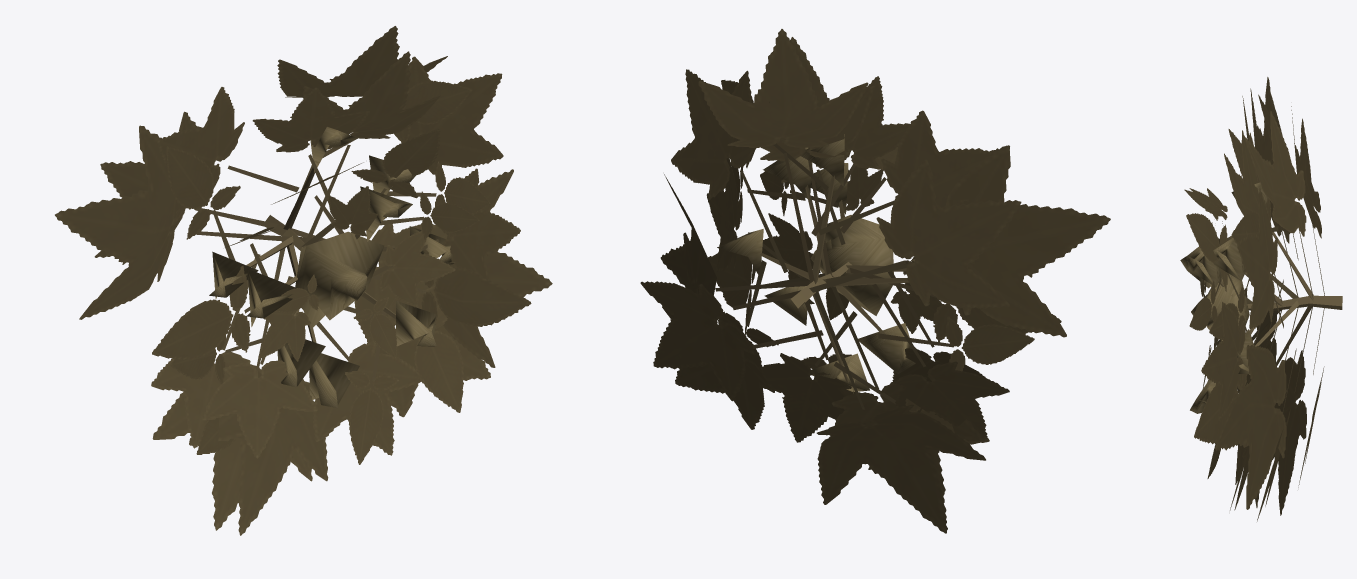
Rendered from p_afghan_flowering_c4_cards.obj.
The picture shows the model from 3 angles, left to right: view 1: azimuth 30°, elevation 25°; view 2: azimuth 150°, elevation 25°; view 3: azimuth 270°, elevation 25°; orthographic projection. The views are drawn at different scales.
Size of the model in its own units: 1.41 by 1.38 by 0.416.
Materials: 1 (1 with a texture image).
